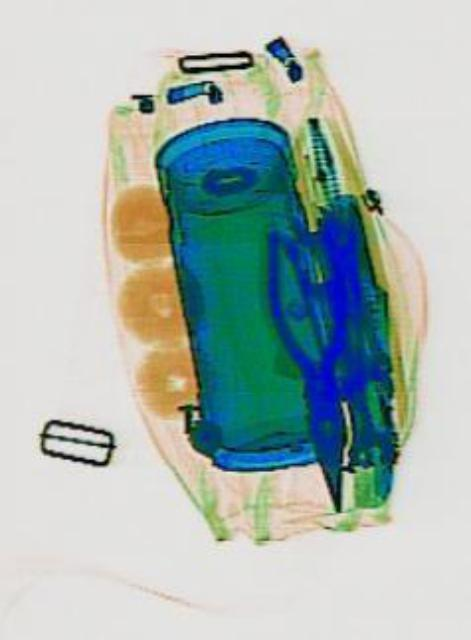Pliers: (254, 213, 373, 517)
